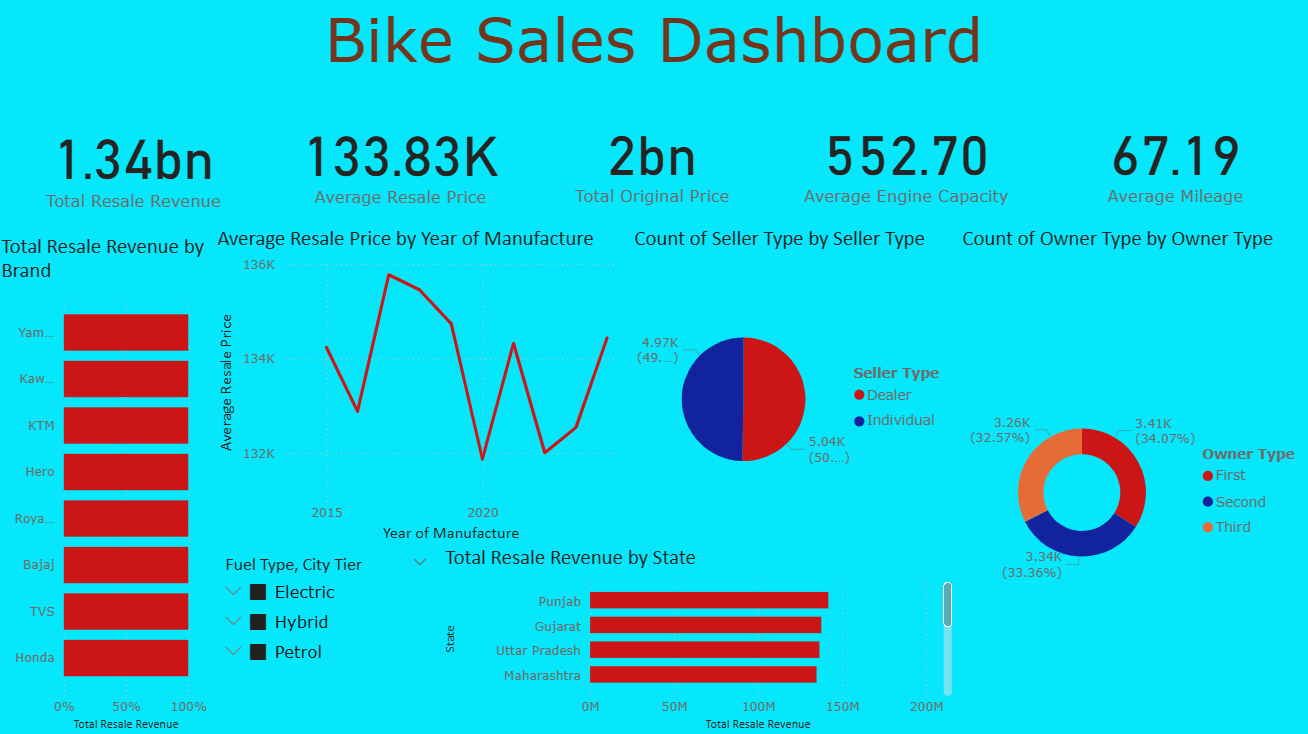

Layout of this report page (visuals, bound fields, positions):
{"tool":"powerbi","page":{"name":"Page 1","canvas":[1280,720],"ordinal":0},"visuals":[{"type":"card","fields":{"Values":["bike-sales.Total Resale Revenue"]},"box":[0,92.4,267.5,138.1],"z":0},{"type":"card","fields":{"Values":["bike-sales.Average Resale Price"]},"box":[267.5,92.4,251.9,132.3],"z":1000},{"type":"hundredPercentStackedBarChart","fields":{"Y":["bike-sales.Total Resale Revenue"],"Category":["bike-sales.Brand"]},"box":[0,230.5,210.1,489.2],"z":2000},{"type":"pieChart","fields":{"Category":["bike-sales.Seller Type"],"Y":["CountNonNull(bike-sales.Seller Type)"]},"box":[615.7,222.7,319,315.1],"z":3000},{"type":"donutChart","fields":{"Category":["bike-sales.Owner Type"],"Y":["CountNonNull(bike-sales.Owner Type)"]},"box":[934.7,222.7,345.3,497],"z":4000},{"type":"clusteredBarChart","fields":{"Category":["bike-sales.State"],"Y":["bike-sales.Total Resale Revenue"]},"box":[431.9,533,502.9,186.7],"z":5000},{"type":"slicer","fields":{"Values":["bike-sales.Fuel Type","bike-sales.City Tier"]},"box":[210.1,535.9,221.8,183.8],"z":6000},{"type":"card","fields":{"Values":["bike-sales.Average Mileage"]},"box":[1013.5,92.4,266.5,130.3],"z":7000},{"type":"card","fields":{"Values":["bike-sales.Average Engine Capacity"]},"box":[757.7,92.4,255.8,130.3],"z":8000},{"type":"card","fields":{"Values":["bike-sales.Total Original Price"]},"box":[519.4,92.4,238.3,130.3],"z":9000},{"type":"lineChart","fields":{"Category":["bike-sales.Year of Manufacture"],"Y":["bike-sales.Average Resale Price"]},"box":[210.1,222.7,405.6,313.2],"z":10000},{"type":"textbox","box":[0,0,1280,92.4],"z":11000}]}

Visuals, with their boxes in screenshot pixels (x1, y1, x2, y2), scaled from the page's 1280x720 canvas onto the 1308x734 screenshot:
card - bike-sales.Total Resale Revenue: 0,94,273,235
card - bike-sales.Average Resale Price: 273,94,531,229
hundredPercentStackedBarChart - bike-sales.Total Resale Revenue x bike-sales.Brand: 0,235,215,733
pieChart - bike-sales.Seller Type x CountNonNull(bike-sales.Seller Type): 629,227,955,548
donutChart - bike-sales.Owner Type x CountNonNull(bike-sales.Owner Type): 955,227,1307,733
clusteredBarChart - bike-sales.State x bike-sales.Total Resale Revenue: 441,543,955,733
slicer - bike-sales.Fuel Type x bike-sales.City Tier: 215,546,441,733
card - bike-sales.Average Mileage: 1036,94,1307,227
card - bike-sales.Average Engine Capacity: 774,94,1036,227
card - bike-sales.Total Original Price: 531,94,774,227
lineChart - bike-sales.Year of Manufacture x bike-sales.Average Resale Price: 215,227,629,546
textbox: 0,0,1307,94
